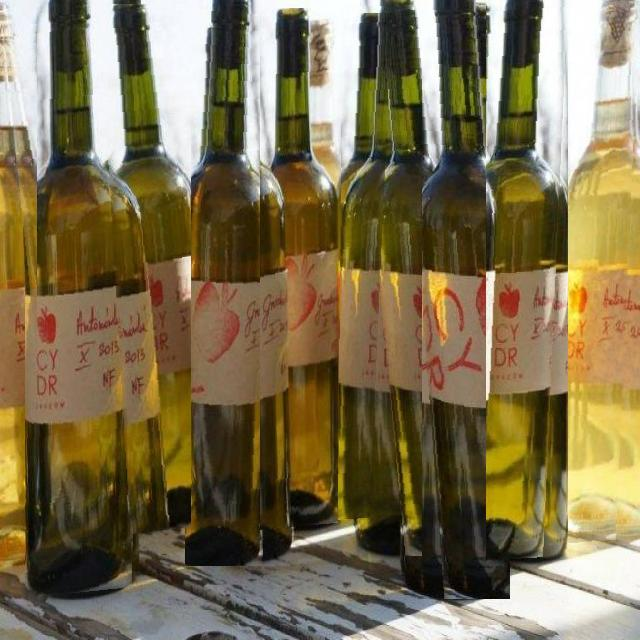Glass: (25, 0, 141, 599), (400, 1, 510, 599), (185, 0, 295, 566), (99, 4, 191, 534), (486, 0, 568, 562), (260, 8, 342, 530), (568, 2, 640, 546), (352, 0, 422, 556), (338, 14, 392, 522), (0, 0, 37, 561)
